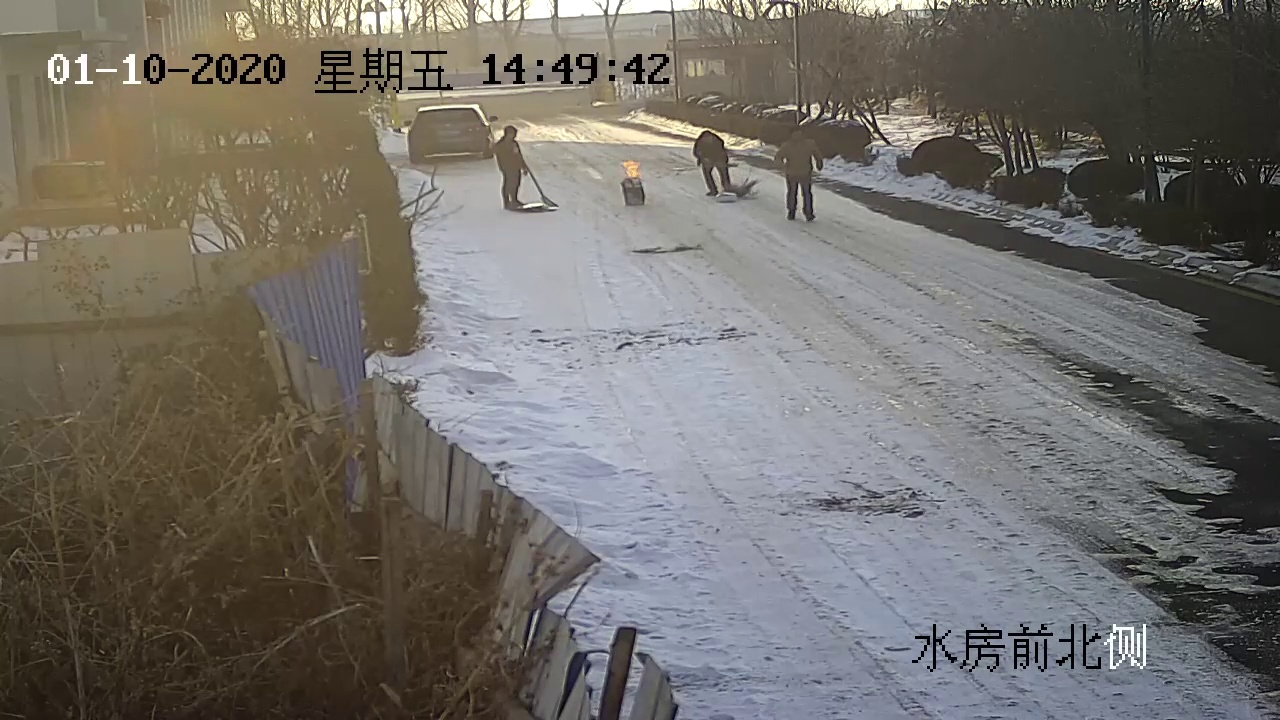fire: (620, 157, 640, 177)
